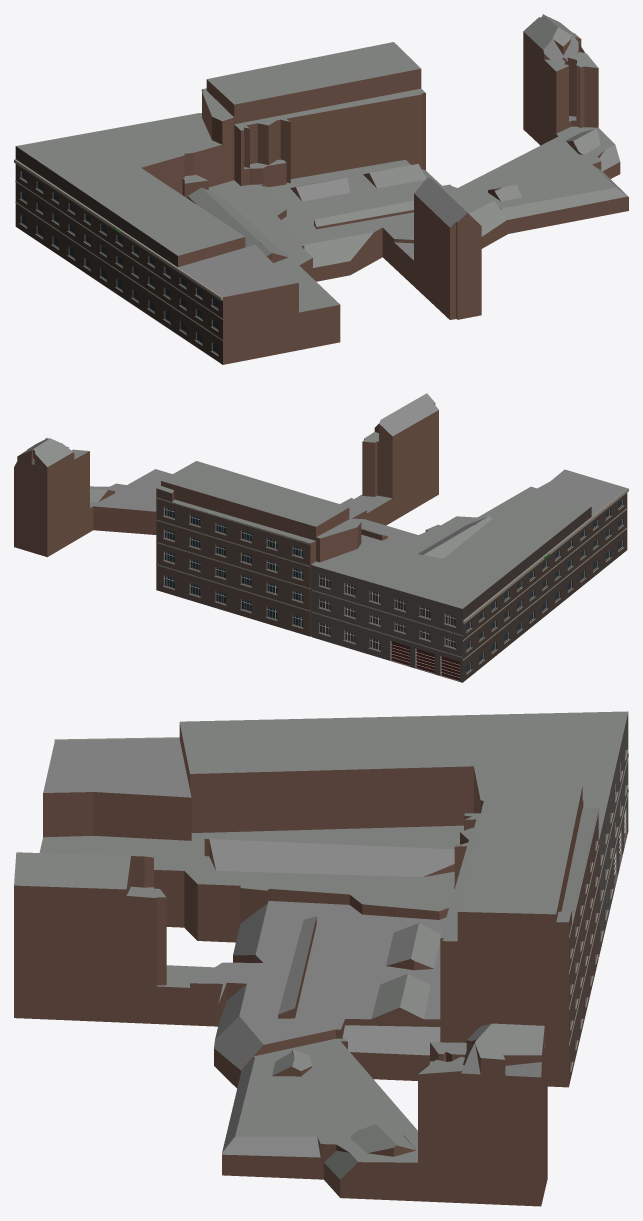
File: recipe-large-quellijnstraat-36-098847.glb
3 renders of one model, top to bottom at view 1: azimuth 30°, elevation 25°; view 2: azimuth 150°, elevation 25°; view 3: azimuth 270°, elevation 25°, orthographic. The views are drawn at different scales.
Parts seen in each view (by area): view 1: quellijnstraat-36-098847; view 2: quellijnstraat-36-098847; view 3: quellijnstraat-36-098847.
Boxes of the visible parts, x1,y1,x2,y2 form: quellijnstraat-36-098847: [14, 14, 628, 364]; quellijnstraat-36-098847: [14, 393, 628, 682]; quellijnstraat-36-098847: [14, 711, 628, 1206].
Bounding box in the file's own units: 80.26 × 17.13 × 55.35.
